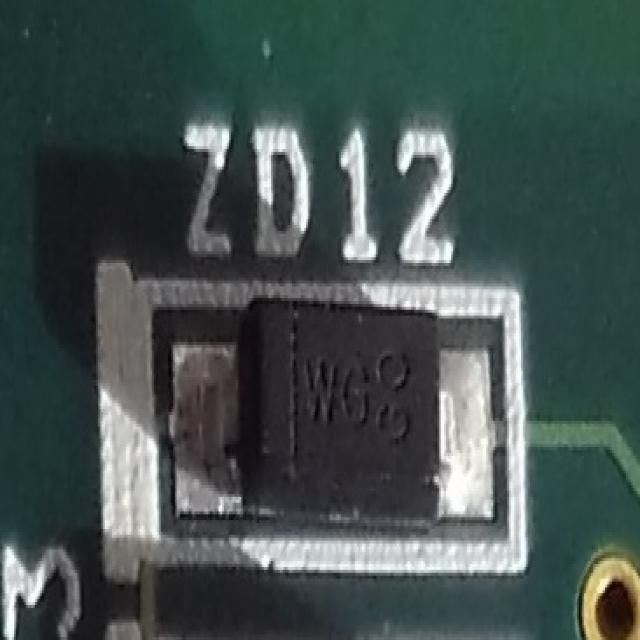diode -D1-: (173, 279, 489, 539)
